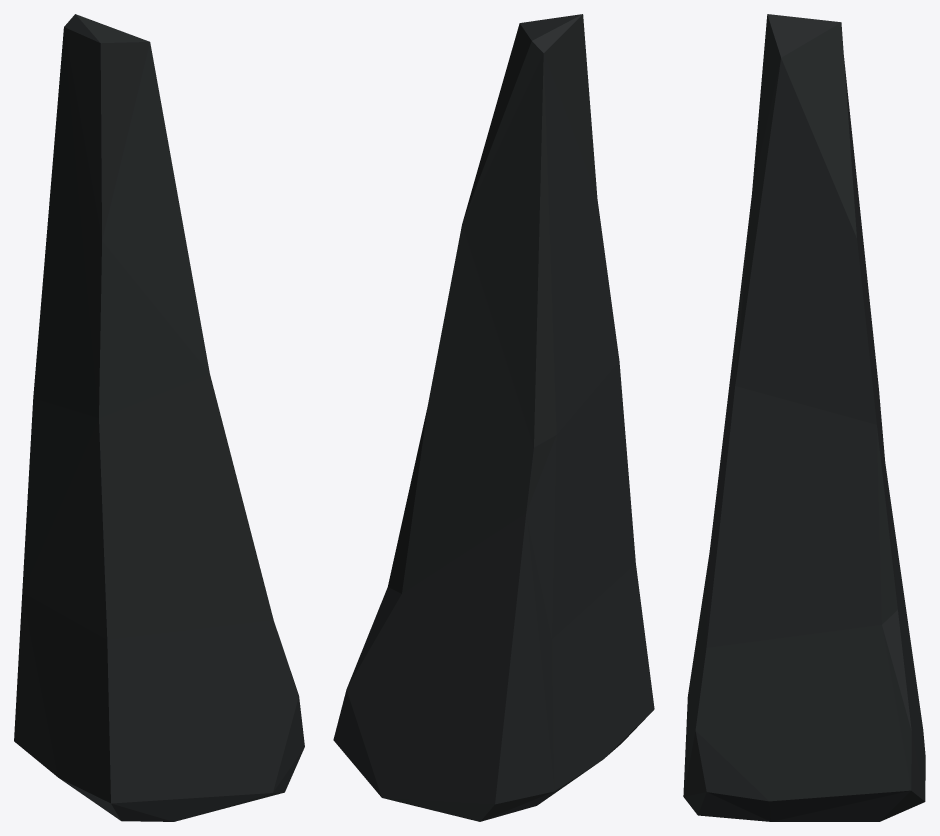
The model's file is Portal_01_Fragment_D.FBX.
3 views of the same model, side by side, from view 1: azimuth 30°, elevation 25°; view 2: azimuth 150°, elevation 25°; view 3: azimuth 270°, elevation 25° (orthographic). The views are drawn at different scales.
Visible parts, largest first — view 1: Portal_01_Fragment_D; view 2: Portal_01_Fragment_D; view 3: Portal_01_Fragment_D.
Part boxes in pixels (x1,y1,x2,y2): Portal_01_Fragment_D: (14, 14, 304, 821); Portal_01_Fragment_D: (333, 14, 654, 821); Portal_01_Fragment_D: (683, 14, 925, 821).
Bounding box in the file's own units: 0.443 × 1.53 × 0.4587.
